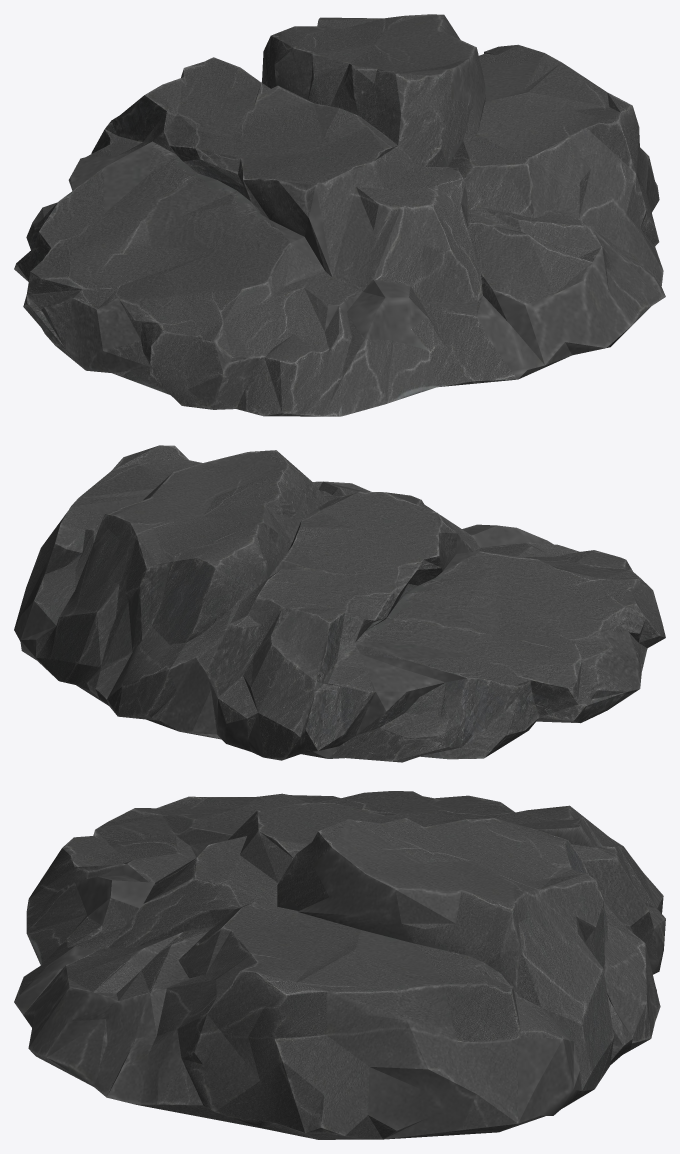
The model's file is co_slate_outcrop.glb.
3 renders of one model, top to bottom at view 1: azimuth 30°, elevation 25°; view 2: azimuth 150°, elevation 25°; view 3: azimuth 270°, elevation 25°, orthographic. The views are drawn at different scales.
Visible parts, largest first — view 1: output_unwrapped; view 2: output_unwrapped; view 3: output_unwrapped.
Boxes of the visible parts, bbox=[...] form: output_unwrapped: bbox=[14, 14, 665, 416]; output_unwrapped: bbox=[14, 445, 665, 762]; output_unwrapped: bbox=[14, 791, 665, 1139].
Size of the model in its own units: 1.9 by 0.5644 by 1.65.
Materials: 1 (1 with a texture image).
